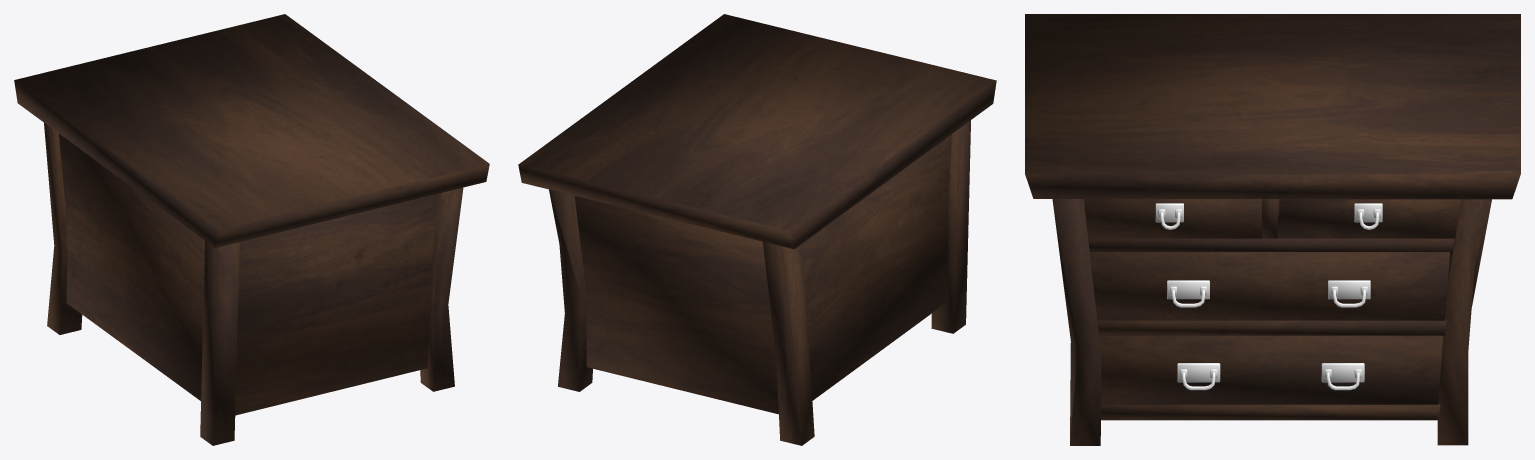
The model's file is dresser.glb.
3 views of the same model, side by side, from view 1: azimuth 30°, elevation 25°; view 2: azimuth 150°, elevation 25°; view 3: azimuth 270°, elevation 25° (orthographic). The views are drawn at different scales.
Visible parts, largest first — view 1: Dresser.001; view 2: Dresser.001; view 3: Dresser.001.
Boxes of the visible parts, x1,y1,x2,y2 form: Dresser.001: (14, 14, 489, 445); Dresser.001: (518, 14, 996, 445); Dresser.001: (1025, 14, 1520, 445).
Size of the model in its own units: 0.6446 by 0.5279 by 0.8432.
2 materials, 1 textured.
